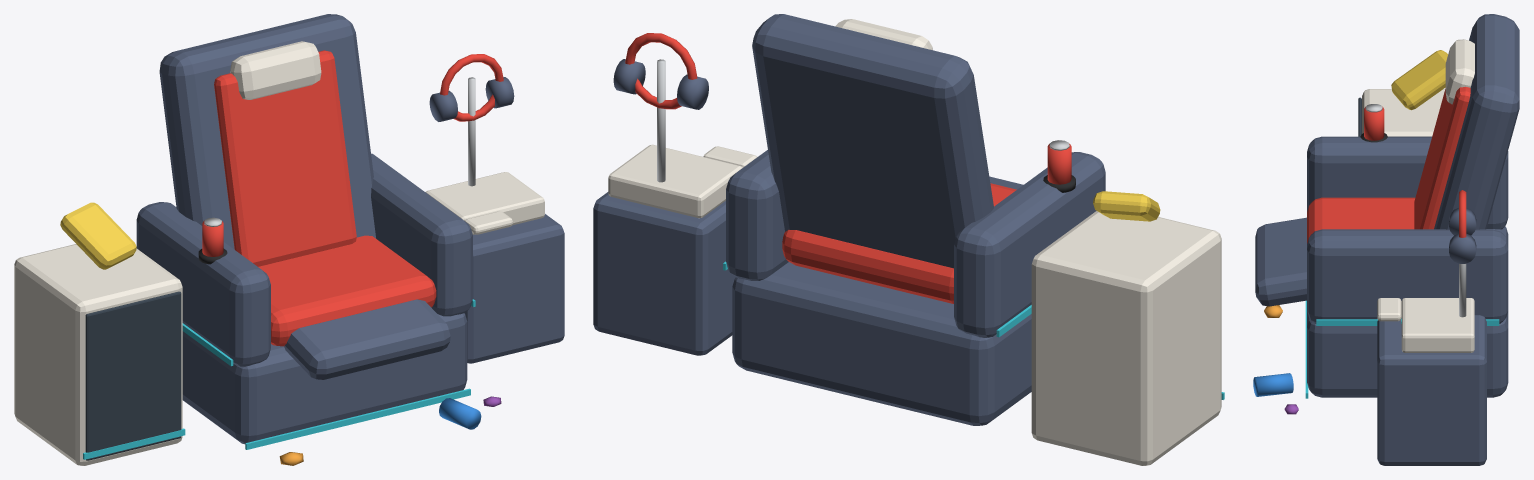
File: gamingRecliner.glb
The picture shows the model from 3 angles, left to right: view 1: azimuth 30°, elevation 25°; view 2: azimuth 150°, elevation 25°; view 3: azimuth 270°, elevation 25°; orthographic projection. The views are drawn at different scales.
Visible parts, largest first — view 1: body, back, cup_holder; view 2: body, back, cup_holder; view 3: body, back, cup_holder.
Boxes of the visible parts, <box> form: body: <box>14,54,564,465</box>; back: <box>159,14,376,266</box>; cup_holder: <box>198,217,227,264</box>; body: <box>593,33,1224,465</box>; back: <box>752,14,993,268</box>; cup_holder: <box>1043,140,1075,192</box>; body: <box>1253,50,1508,465</box>; back: <box>1414,14,1519,229</box>; cup_holder: <box>1360,104,1387,142</box>.
Bounding box in the file's own units: 1.77 × 1.1 × 0.874.
